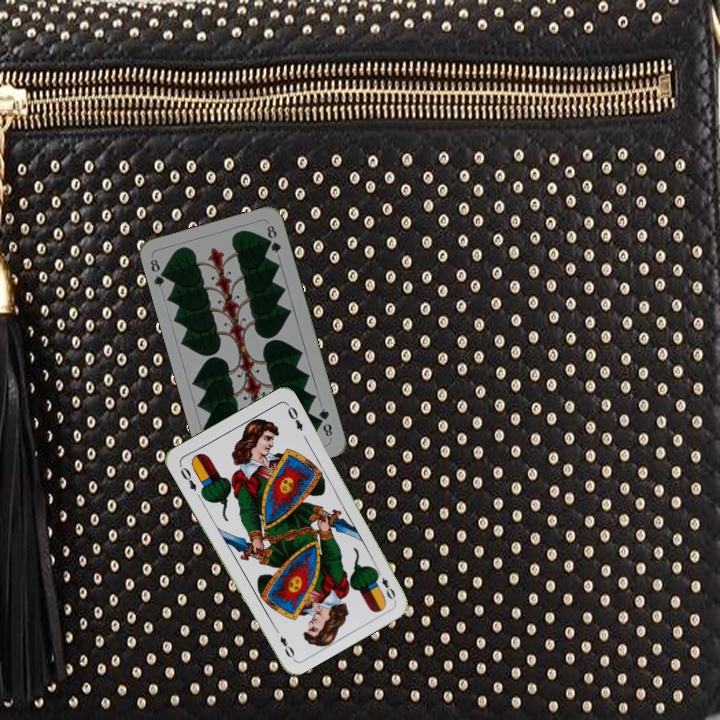EO: (372, 565, 398, 602), (177, 463, 199, 494)
G8: (146, 255, 170, 290), (315, 404, 335, 439)
